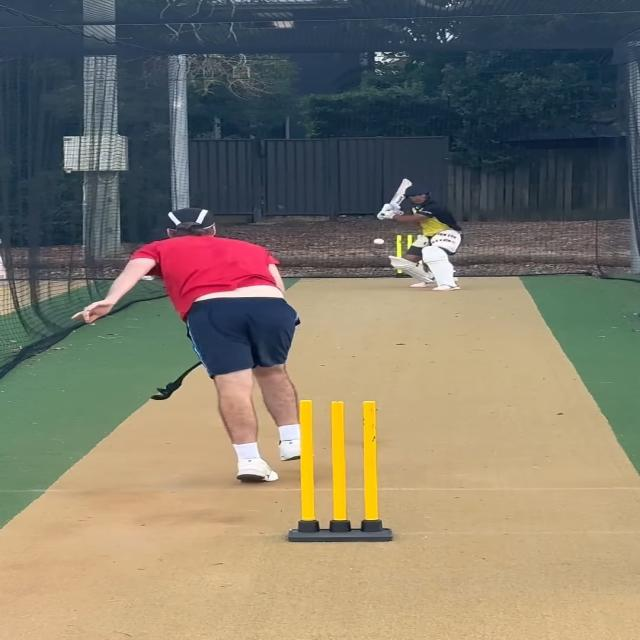ball: (371, 236, 387, 246)
stump: (286, 396, 396, 542)
